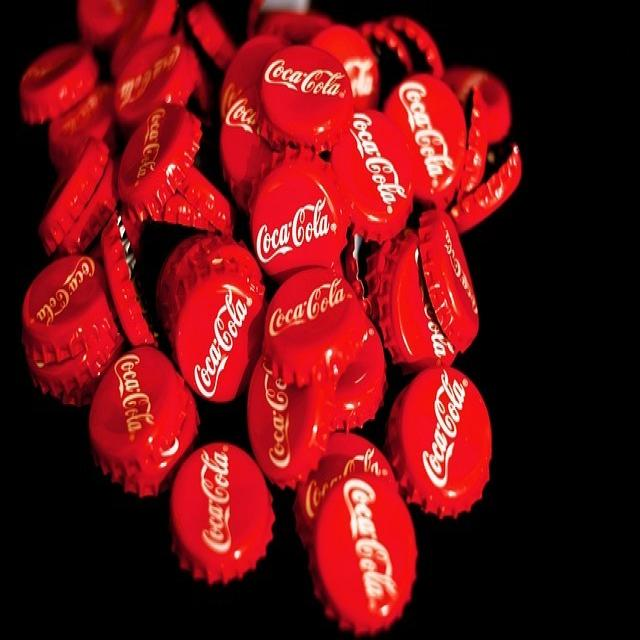coca cola: (191, 279, 251, 403), (269, 272, 361, 341), (421, 364, 469, 486), (195, 443, 238, 560), (255, 203, 332, 263), (264, 54, 344, 108)
